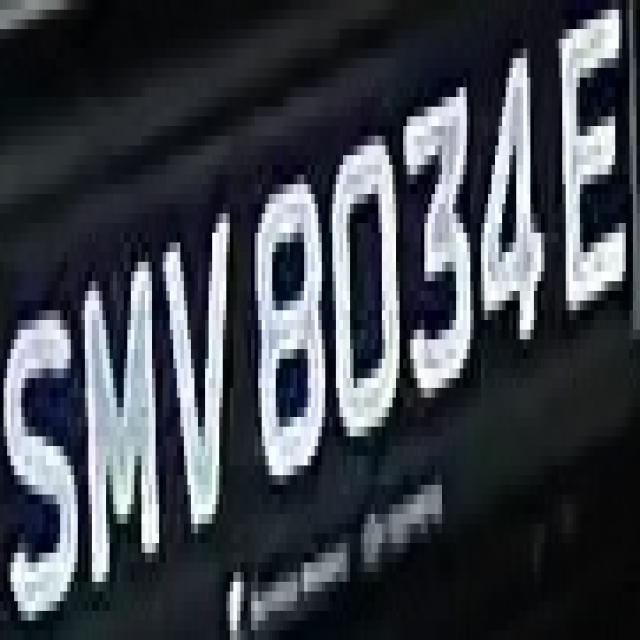0: (318, 97, 400, 475)
3: (396, 48, 481, 417)
4: (477, 58, 548, 378)
8: (244, 174, 346, 514)
E: (548, 19, 629, 340)
M: (78, 252, 166, 572)
S: (10, 271, 81, 640)
V: (156, 175, 240, 552)
